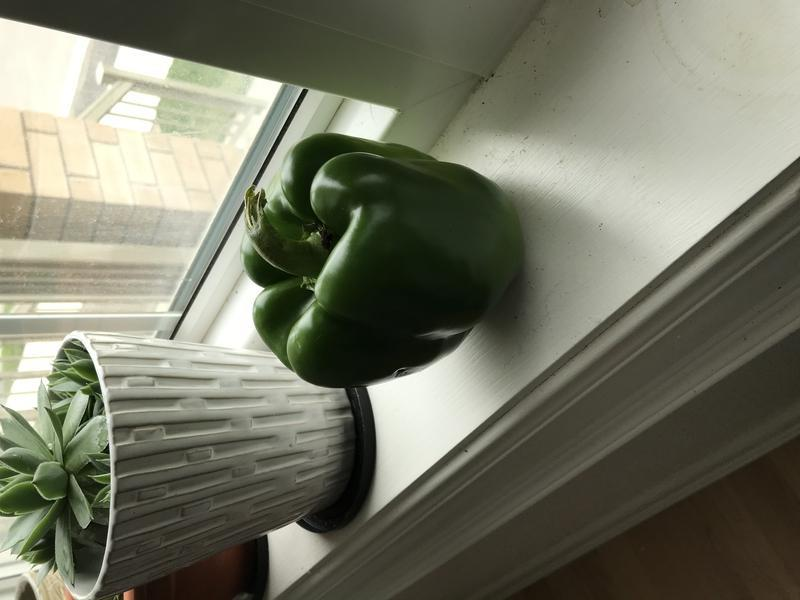green_pepper: (234, 124, 532, 396)
